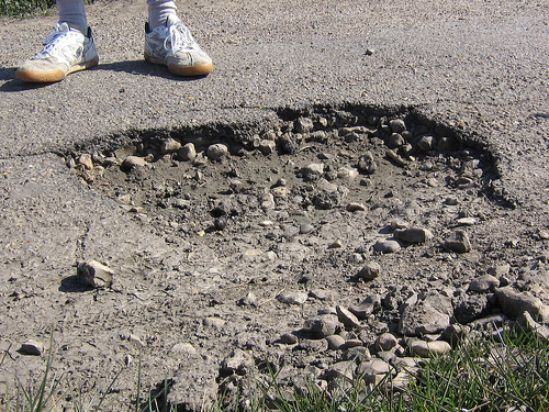pothole: (48, 97, 518, 278)
